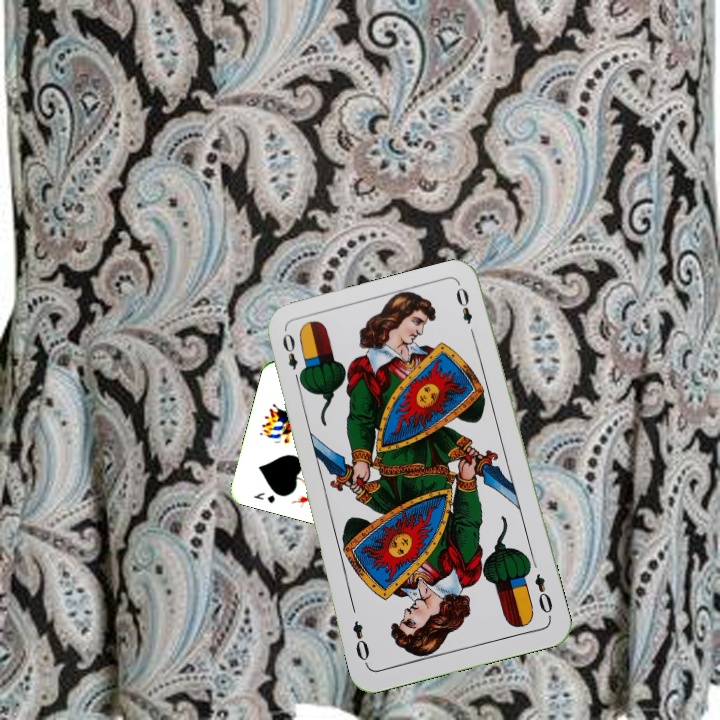EO: (278, 329, 306, 387), (530, 569, 555, 621)
GK: (250, 488, 277, 506)
